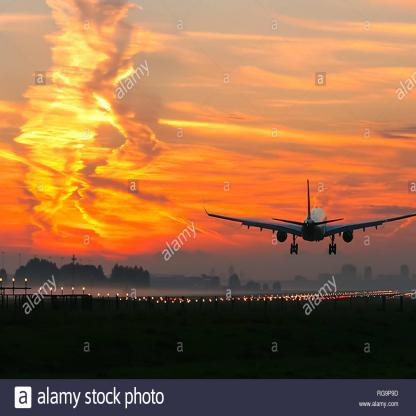CIV_Plane: (194, 176, 415, 262)
